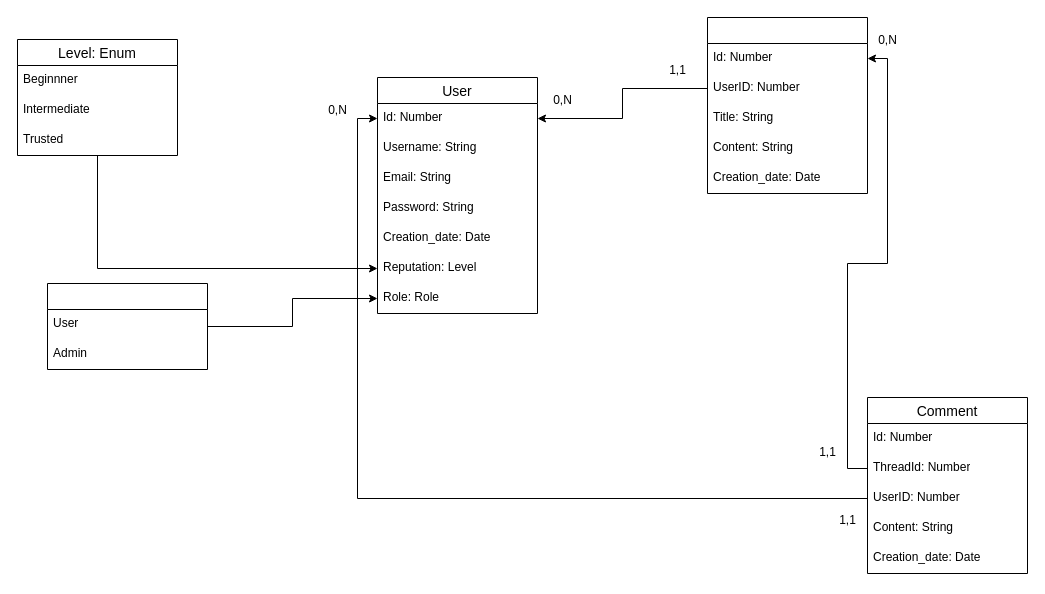
This 1045x594 diagram has some shape labels left out. The shapes that lost their labels are listed below. From the top down, each one's box as (x1, y1, x2, y2) in pixels, then its label:
(706, 16, 868, 194): Thread
(46, 282, 208, 370): Role: Enum
